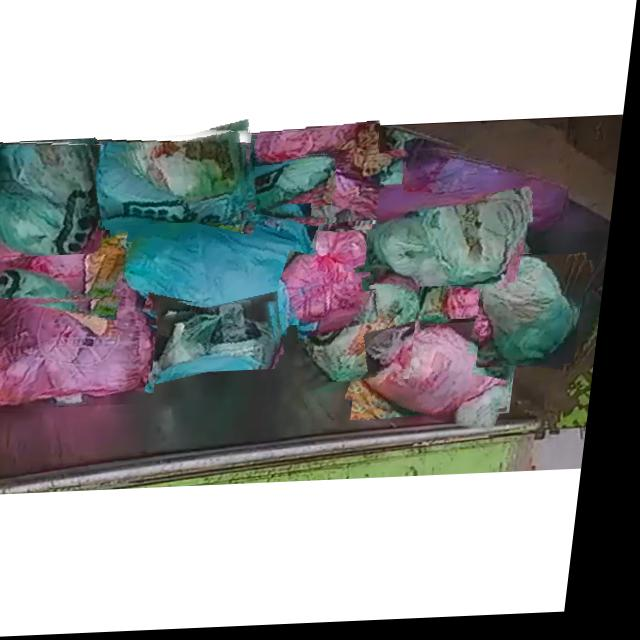general_trashbag: (95, 130, 254, 224), (380, 204, 528, 290), (310, 276, 426, 384), (0, 143, 103, 255), (493, 259, 584, 370), (163, 302, 288, 375), (250, 158, 341, 213)
other_trashbag: (131, 201, 322, 325), (0, 282, 165, 408), (374, 321, 521, 422), (397, 157, 573, 227), (0, 231, 139, 302), (290, 233, 388, 321), (253, 128, 382, 176), (320, 164, 407, 218), (453, 280, 510, 324)
